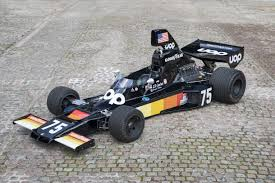f1_car: (10, 25, 256, 161)
